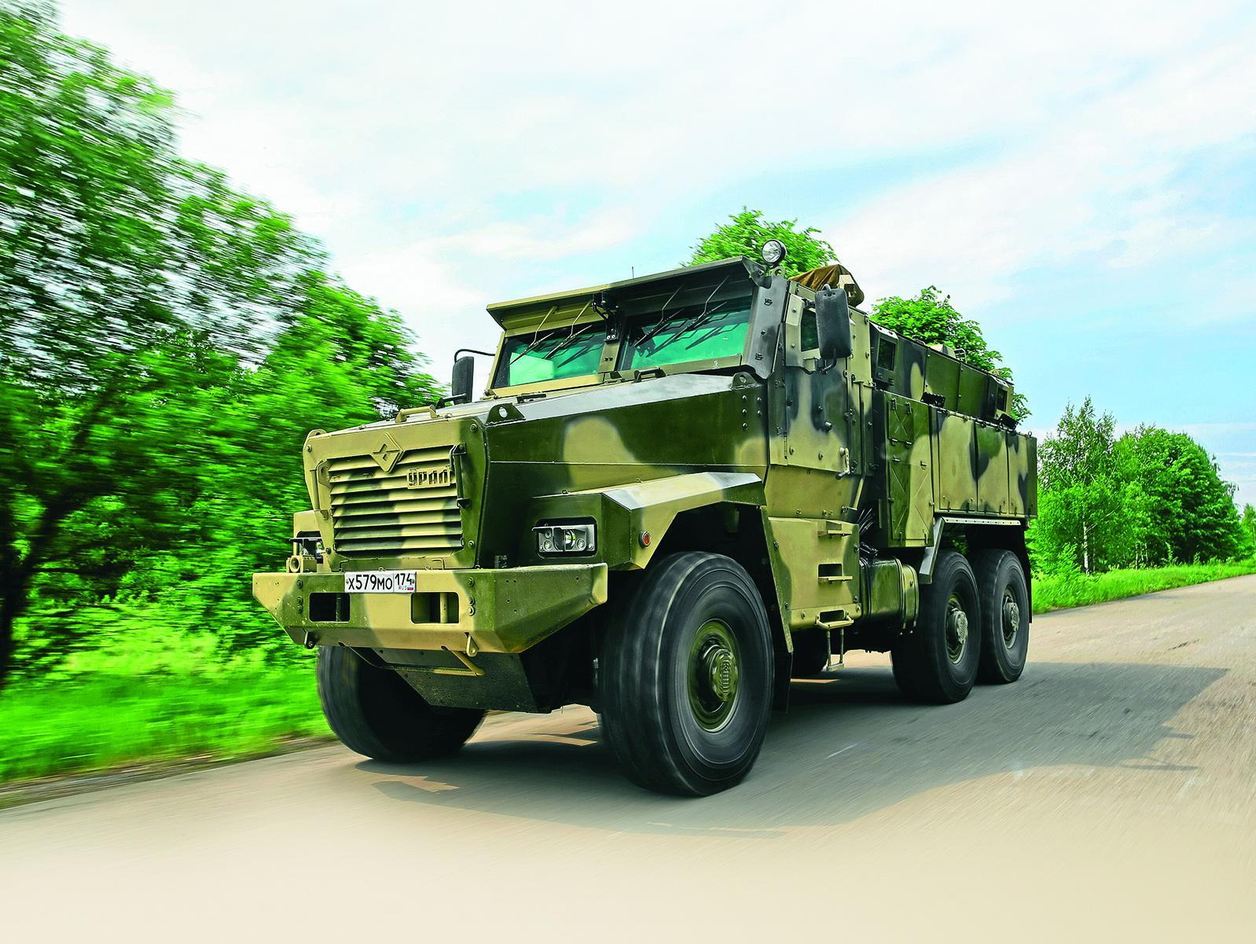truck: (284, 200, 1094, 784)
